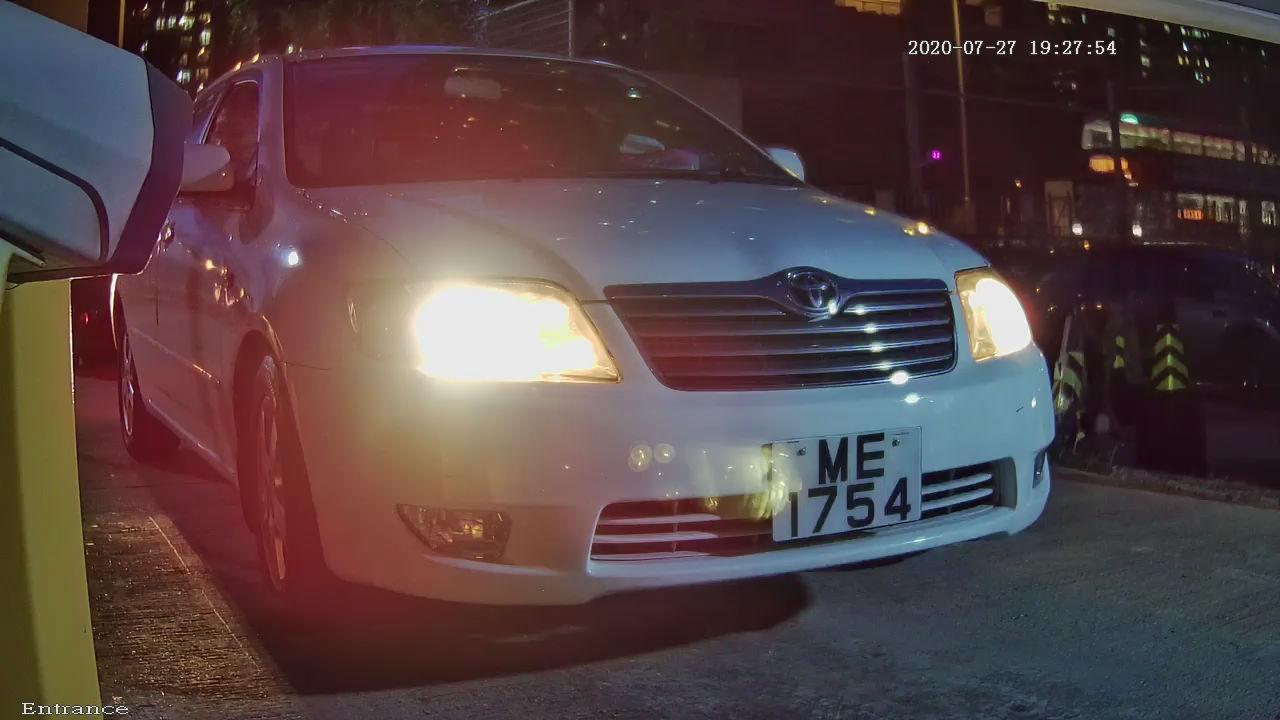privatecar: (143, 10, 1081, 679)
